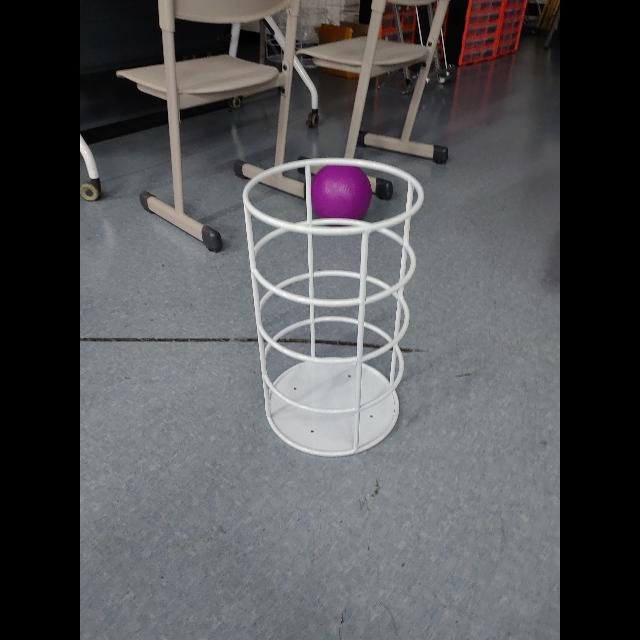S: (241, 156, 429, 457)
